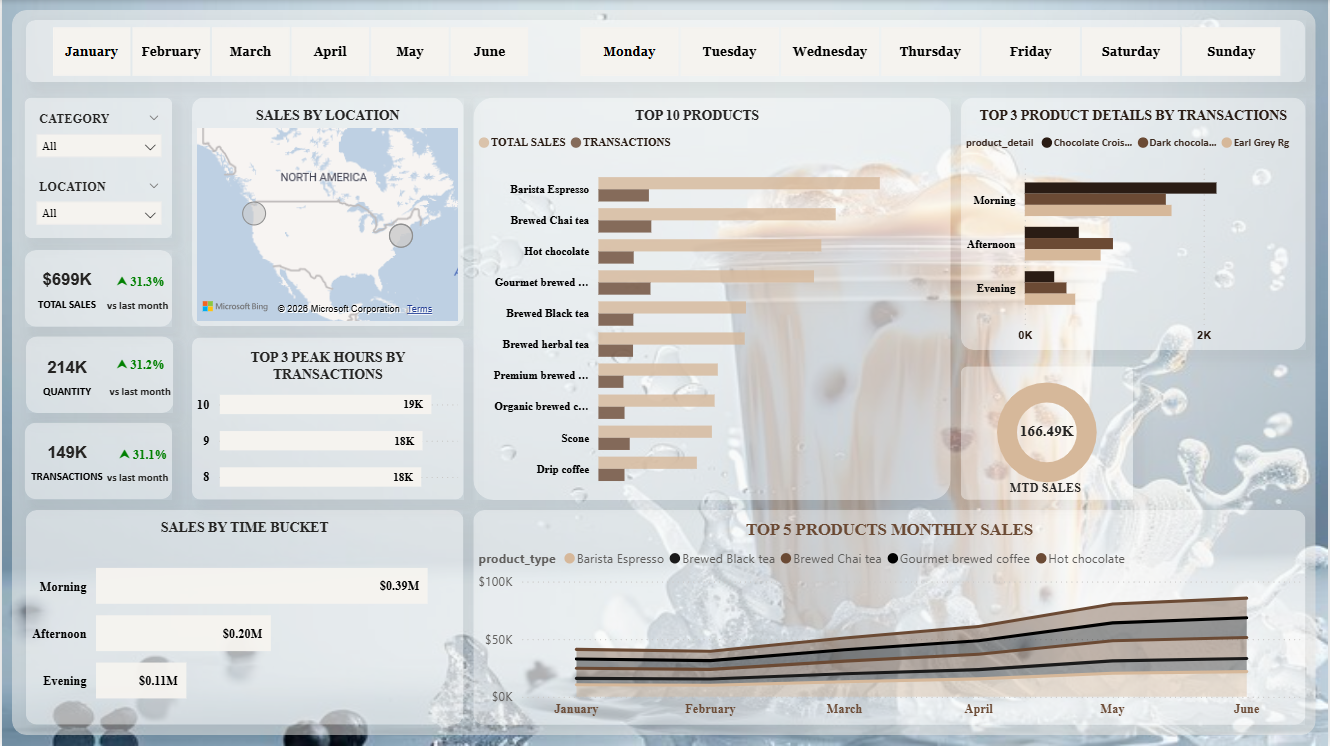

This screenshot's page, from the dashboard's own definition file:
{"tool":"powerbi","page":{"name":"Page 1","canvas":[1280,720],"ordinal":0},"visuals":[{"type":"shape","box":[9.7,13.3,1260.7,696.1],"z":0},{"type":"shape","box":[18.1,24.1,571.9,56.7],"z":1000},{"type":"textbox","box":[18.1,36.2,571.9,44.6],"z":2000},{"type":"shape","box":[603.2,24.1,652.7,43.4],"z":3000},{"type":"slicer","fields":{"Values":["DimDate.MonthName"]},"box":[603.2,24.1,652.7,43.4],"z":4000},{"type":"shape","box":[18.1,94.1,191.8,86.9],"z":5000},{"type":"shape","box":[218.4,94.1,191.8,86.9],"z":6000},{"type":"shape","box":[419.8,94.1,191.8,86.9],"z":7000},{"type":"card","fields":{"Values":["MEASURE.TOTAL SALES"]},"box":[18.1,94.1,96.5,86.9],"z":8000},{"type":"card","fields":{"Values":["MEASURE.QUANTITY"]},"box":[218.4,94.1,96.5,86.9],"z":9000},{"type":"card","fields":{"Values":["MEASURE.TRANSACTIONS"]},"box":[419.8,94.1,107.4,86.9],"z":10000},{"type":"card","fields":{"Values":["MEASURE.vs lastmonth"]},"box":[114.6,94.1,95.3,86.9],"z":11000},{"type":"card","fields":{"Values":["MEASURE.q vs lastmonth"]},"box":[314.9,94.1,95.3,86.9],"z":12000},{"type":"card","fields":{"Values":["MEASURE.t vs lastmonth"]},"box":[527.2,94.1,84.5,86.9],"z":13000},{"type":"shape","box":[611.7,72.4,644.2,43.4],"z":15000},{"type":"shape","box":[624.9,125.5,144.8,55.5],"z":16000},{"type":"slicer","fields":{"Values":["COFFEE.product_category"]},"box":[624.9,125.5,144.8,55.5],"z":17000},{"type":"shape","box":[785.4,125.5,144.8,55.5],"z":18000},{"type":"slicer","fields":{"Values":["COFFEE.store_location"]},"box":[785.4,125.5,144.8,55.5],"z":19000},{"type":"shape","box":[942.2,124.3,313.7,235.3],"z":20000},{"type":"map","fields":{"Size":["MEASURE.TOTAL SALES"],"Category":["COFFEE.store_location"]},"box":[942.2,125.5,313.7,234],"z":20001},{"type":"shape","box":[19.3,199.1,390.9,335.4],"z":20002},{"type":"clusteredBarChart","title":"TOP 10 PRODUCTS","fields":{"Category":["COFFEE.product_type"],"Y":["MEASURE.TOTAL SALES","MEASURE.TRANSACTIONS"]},"box":[19.3,199.1,390.9,335.4],"z":20003},{"type":"shape","box":[19.3,545.3,390.9,149.6],"z":20004},{"type":"clusteredBarChart","title":"TOP 3 PEAK TRANSACTION HOURS","fields":{"Y":["MEASURE.TRANSACTIONS"],"Category":["COFFEE.transaction_time"]},"box":[19.3,545.3,390.9,149.6],"z":20005},{"type":"slicer","fields":{"Values":["DimDate.DayName"]},"box":[611.7,72.4,644.2,43.4],"z":20006},{"type":"shape","box":[419.9,366.4,510.5,167.4],"z":20007},{"type":"shape","box":[419.8,199.1,510.3,162.9],"z":20008},{"type":"clusteredBarChart","title":"TOP 3 PRODUCT DETAILS BY TRANSACTION","fields":{"Y":["MEASURE.TRANSACTIONS"],"Category":["COFFEE.Time Bucket"],"Series":["COFFEE.product_detail"]},"box":[422.3,199.1,507.9,160.5],"z":20009},{"type":"shape","box":[419.8,545.3,836.1,149.6],"z":20010},{"type":"clusteredBarChart","title":"TOP 3 PRODUCT DETAILS BY SALES","fields":{"Category":["COFFEE.Time Bucket"],"Y":["MEASURE.TOTAL SALES"],"Series":["COFFEE.product_detail"]},"box":[419.8,366.8,510.3,166.5],"z":20011},{"type":"areaChart","title":"MONTHLY SALES","fields":{"Y":["MEASURE.TOTAL SALES"],"Category":["DimDate.MonthShort"]},"box":[419.8,545.3,836.1,149.6],"z":20012},{"type":"shape","box":[942.2,365.6,313.7,167.7],"z":20013},{"type":"pieChart","title":"SALES BY TIME BUCKET","fields":{"Category":["COFFEE.Time Bucket"],"Y":["MEASURE.TOTAL SALES"]},"box":[942.2,365.6,313.7,168.9],"z":20014}]}

Visuals, with their boxes in screenshot pixels (x1, y1, x2, y2), scaled from the page's 1280x720 canvas onto the 1330x746 screenshot:
shape: l=10, t=14, r=1320, b=735
shape: l=19, t=25, r=613, b=84
textbox: l=19, t=38, r=613, b=84
shape: l=627, t=25, r=1305, b=70
slicer - DimDate.MonthName: l=627, t=25, r=1305, b=70
shape: l=19, t=97, r=218, b=188
shape: l=227, t=97, r=426, b=188
shape: l=436, t=97, r=635, b=188
card - MEASURE.TOTAL SALES: l=19, t=97, r=119, b=188
card - MEASURE.QUANTITY: l=227, t=97, r=327, b=188
card - MEASURE.TRANSACTIONS: l=436, t=97, r=548, b=188
card - MEASURE.vs lastmonth: l=119, t=97, r=218, b=188
card - MEASURE.q vs lastmonth: l=327, t=97, r=426, b=188
card - MEASURE.t vs lastmonth: l=548, t=97, r=636, b=188
shape: l=636, t=75, r=1305, b=120
shape: l=649, t=130, r=800, b=188
slicer - COFFEE.product_category: l=649, t=130, r=800, b=188
shape: l=816, t=130, r=967, b=188
slicer - COFFEE.store_location: l=816, t=130, r=967, b=188
shape: l=979, t=129, r=1305, b=373
map - MEASURE.TOTAL SALES x COFFEE.store_location: l=979, t=130, r=1305, b=372
shape: l=20, t=206, r=426, b=554
"TOP 10 PRODUCTS" clusteredBarChart: l=20, t=206, r=426, b=554
shape: l=20, t=565, r=426, b=720
"TOP 3 PEAK TRANSACTION HOURS" clusteredBarChart: l=20, t=565, r=426, b=720
slicer - DimDate.DayName: l=636, t=75, r=1305, b=120
shape: l=436, t=380, r=967, b=553
shape: l=436, t=206, r=966, b=375
"TOP 3 PRODUCT DETAILS BY TRANSACTION" clusteredBarChart: l=439, t=206, r=967, b=373
shape: l=436, t=565, r=1305, b=720
"TOP 3 PRODUCT DETAILS BY SALES" clusteredBarChart: l=436, t=380, r=966, b=553
"MONTHLY SALES" areaChart: l=436, t=565, r=1305, b=720
shape: l=979, t=379, r=1305, b=553
"SALES BY TIME BUCKET" pieChart: l=979, t=379, r=1305, b=554
